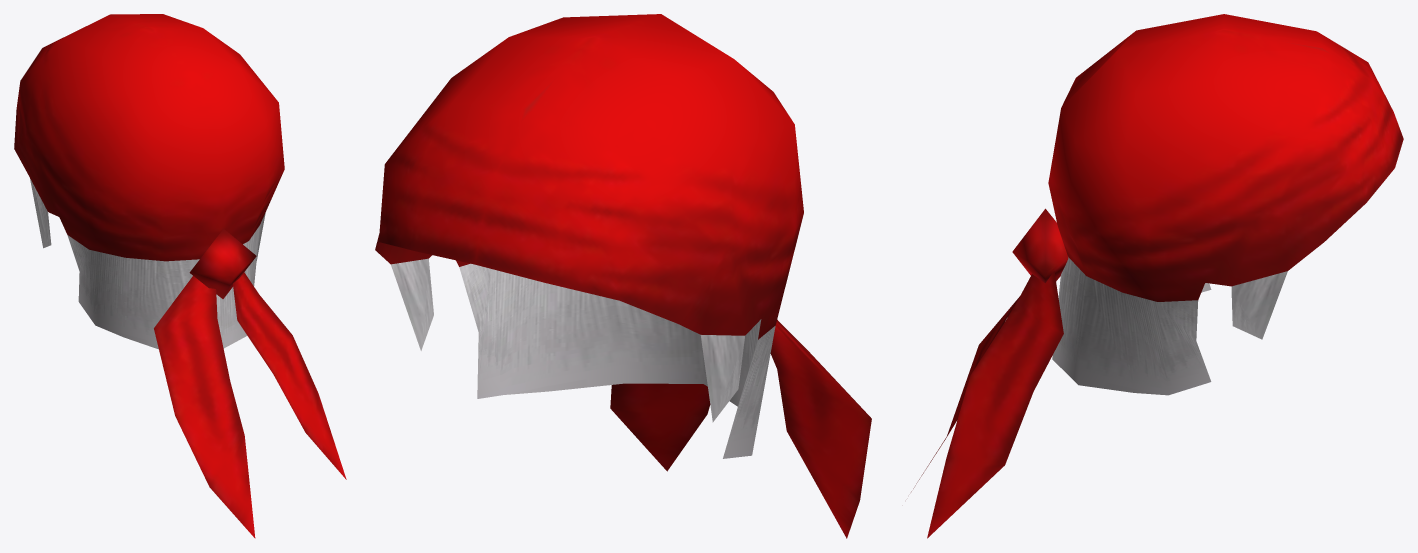
The model's file is Martial arts male hair 58.glb.
3 views of the same model, side by side, from view 1: azimuth 30°, elevation 25°; view 2: azimuth 150°, elevation 25°; view 3: azimuth 270°, elevation 25° (orthographic). The views are drawn at different scales.
Parts seen in each view (by area): view 1: 武侠男头发58_2, 武侠男头发58_0; view 2: 武侠男头发58_2, 武侠男头发58_0; view 3: 武侠男头发58_2, 武侠男头发58_0.
Part boxes in pixels (x1=…): 武侠男头发58_2: x1=14, y1=14, x2=346, y2=538; 武侠男头发58_0: x1=30, y1=178, x2=265, y2=349; 武侠男头发58_2: x1=375, y1=14, x2=871, y2=538; 武侠男头发58_0: x1=391, y1=258, x2=775, y2=458; 武侠男头发58_2: x1=911, y1=14, x2=1403, y2=538; 武侠男头发58_0: x1=1052, y1=257, x2=1287, y2=395.
Bounding box in the file's own units: 0.1621 × 0.3015 × 0.2777.
Materials: 2 (2 with a texture image).
